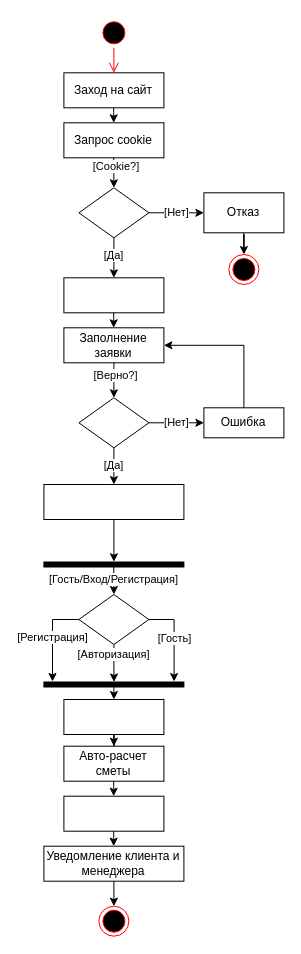
The diagram is 301 pixels wide and 954 high, and some of its shapes have lost their labels. The shapes that lost their labels are listed below. From the top down, each one's centre as x and y in pixels, then its label:
[113,295]: Создание сессии
[113,502]: Выбор способа входа
[113,716]: Привязка заказа
[113,813]: Сохранение в CRM
